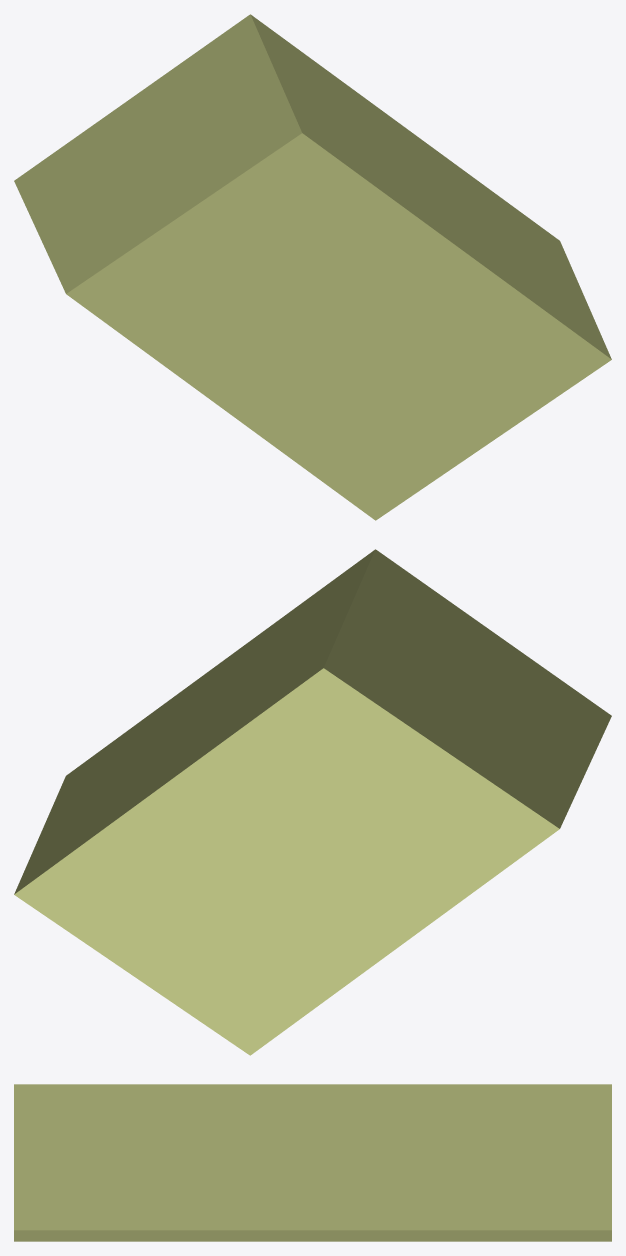
3 renders of one model, top to bottom at view 1: azimuth 30°, elevation 25°; view 2: azimuth 150°, elevation 25°; view 3: azimuth 270°, elevation 25°, orthographic. The views are drawn at different scales.
Parts seen in each view (by area): view 1: 0_2_2_0_0_0_0_2_2_1_2; view 2: 0_2_2_0_0_0_0_2_2_1_2; view 3: 0_2_2_0_0_0_0_2_2_1_2.
Boxes of the visible parts, x1,y1,x2,y2 form: 0_2_2_0_0_0_0_2_2_1_2: (14, 14, 611, 520); 0_2_2_0_0_0_0_2_2_1_2: (14, 549, 611, 1055); 0_2_2_0_0_0_0_2_2_1_2: (14, 1084, 611, 1241).
Size of the model in its own units: 4.84 by 3.77 by 9.
